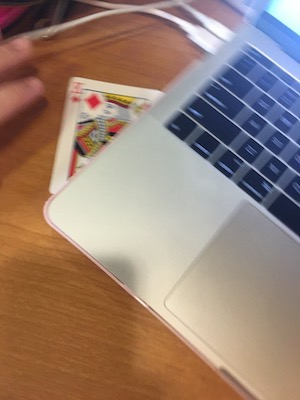KingOfDiamonds: (47, 71, 166, 207)
